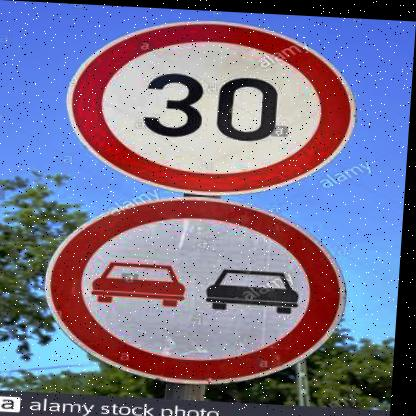Speed Limit -30-: (62, 13, 364, 201)
